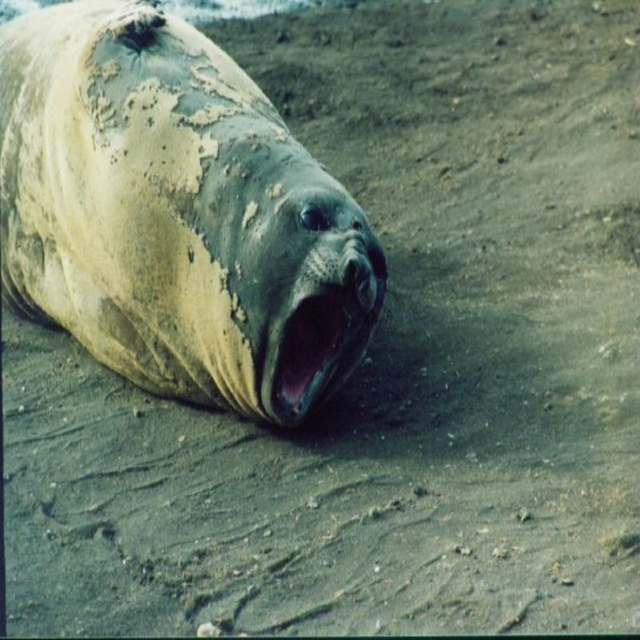Harbor seal: (0, 16, 398, 441)
